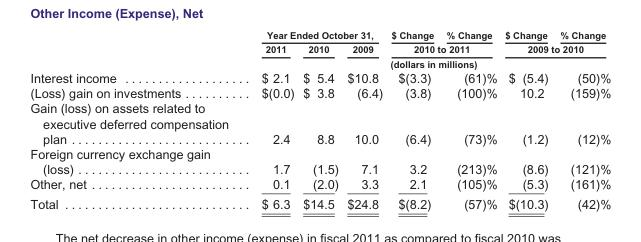table: (29, 28, 610, 210)
table column: (29, 28, 244, 210), (439, 28, 500, 210), (553, 28, 610, 210), (244, 28, 297, 210), (386, 28, 439, 210), (500, 28, 553, 210), (297, 28, 342, 210), (342, 28, 386, 210)
table column header: (29, 28, 610, 69)
table row: (29, 100, 610, 145), (29, 145, 610, 176), (29, 176, 610, 193), (29, 193, 610, 210), (29, 69, 610, 85), (29, 41, 610, 56), (29, 85, 610, 100), (29, 28, 610, 41), (29, 56, 610, 69)
table spanning cell: (244, 56, 610, 69), (244, 28, 386, 41), (386, 41, 500, 56), (500, 41, 610, 56)
